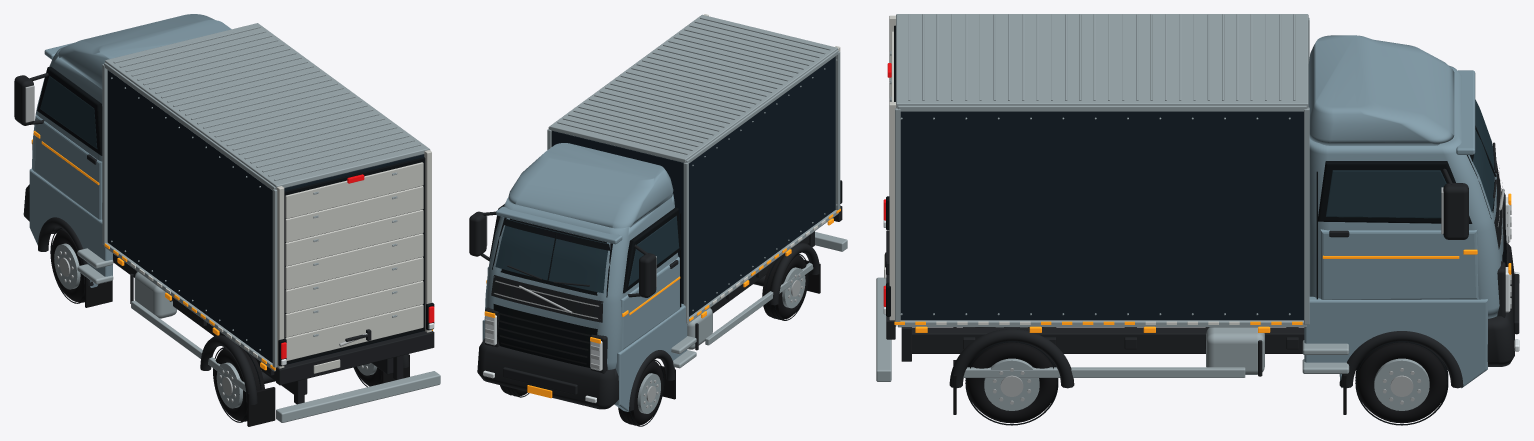
File: delivery-rigid-truck.glb
3 views of the same model, side by side, from view 1: azimuth 30°, elevation 25°; view 2: azimuth 150°, elevation 25°; view 3: azimuth 270°, elevation 25° (orthographic). The views are drawn at different scales.
Visible parts, largest first — view 1: Extruded aluminum trim (×3), Cargo • midnight blue coated steel, Rear • weathered white enamel, Cab • metallic blue silver, Chassis • powder coated black, Door and glass seals, Tires • vulcanized rubber (×3), Smoked blue safety glass, Amber marker lenses, Brushed stainless steel; view 2: Extruded aluminum trim (×3), Cargo • midnight blue coated steel, Cab • metallic blue silver, Chassis • powder coated black, Door and glass seals, Smoked blue safety glass, Tires • vulcanized rubber (×3), Brushed stainless steel, Amber marker lenses, Headlamp lenses; view 3: Cargo • midnight blue coated steel, Extruded aluminum trim (×3), Cab • metallic blue silver, Chassis • powder coated black, Tires • vulcanized rubber (×2), Smoked blue safety glass, Door and glass seals, Rear • weathered white enamel, Amber marker lenses, Headlamp lenses.
Part boxes in pixels (x1,y1,x2,y2): Extruded aluminum trim (×3): (54, 23, 440, 422); Cargo • midnight blue coated steel: (107, 70, 424, 364); Rear • weathered white enamel: (276, 150, 431, 373); Cab • metallic blue silver: (29, 14, 231, 287); Chassis • powder coated black: (14, 73, 434, 404); Door and glass seals: (37, 66, 434, 366); Tires • vulcanized rubber (×3): (51, 229, 409, 426); Smoked blue safety glass: (40, 76, 97, 148); Amber marker lenses: (31, 131, 432, 370); Brushed stainless steel: (25, 85, 396, 346); Extruded aluminum trim (×3): (547, 14, 847, 413); Cargo • midnight blue coated steel: (551, 56, 835, 316); Cab • metallic blue silver: (482, 143, 687, 411); Chassis • powder coated black: (469, 205, 842, 410); Door and glass seals: (489, 180, 842, 367); Smoked blue safety glass: (495, 216, 679, 293); Tires • vulcanized rubber (×3): (618, 253, 820, 426); Brushed stainless steel: (485, 215, 656, 368); Amber marker lenses: (484, 208, 840, 398); Headlamp lenses: (483, 315, 602, 402); Cargo • midnight blue coated steel: (900, 111, 1303, 320); Extruded aluminum trim (×3): (876, 14, 1429, 410); Cab • metallic blue silver: (1304, 35, 1503, 388); Chassis • powder coated black: (885, 142, 1519, 388); Tires • vulcanized rubber (×2): (966, 342, 1447, 423); Smoked blue safety glass: (1326, 99, 1494, 218); Door and glass seals: (886, 25, 1506, 316); Rear • weathered white enamel: (884, 15, 896, 326); Amber marker lenses: (894, 193, 1511, 332); Headlamp lenses: (883, 197, 1519, 351).
Size of the model in its own units: 2.96 by 3.79 by 6.76.
